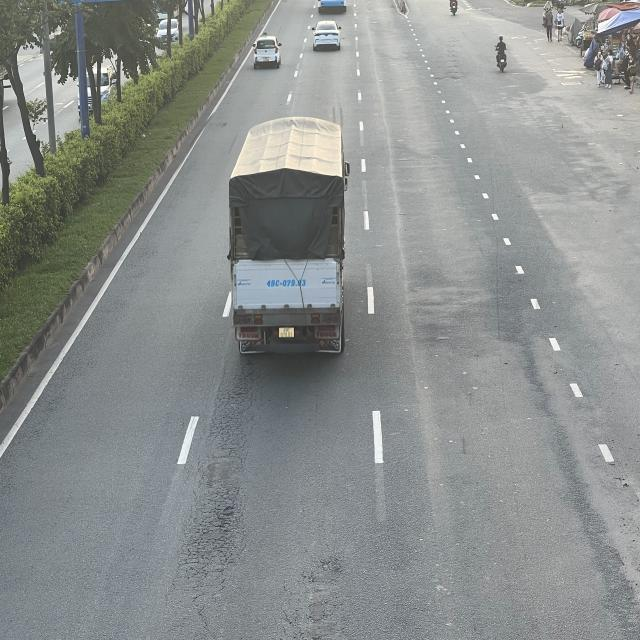car: (252, 33, 282, 68), (311, 20, 343, 52)
truck: (229, 115, 349, 356)
